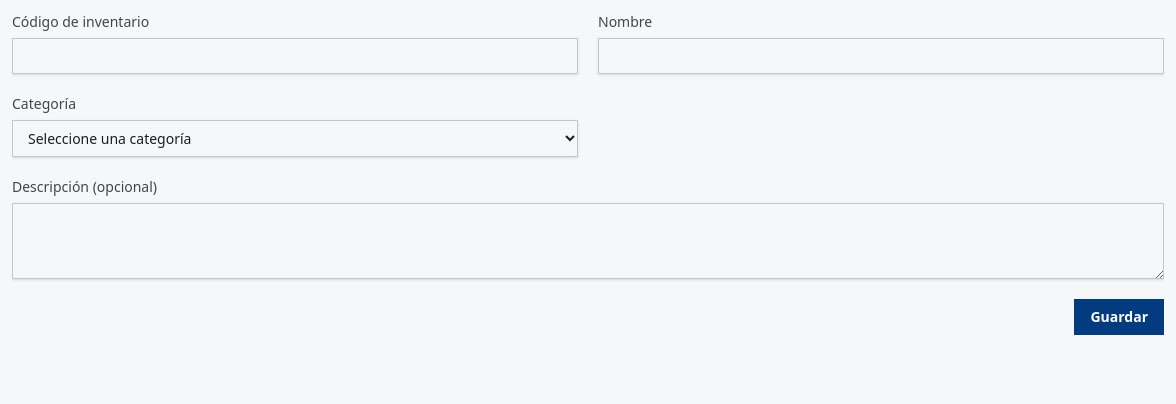
it: ItemForm › muestra errores de validación al crear con campos vacíos
This screenshot has width=1176, height=404.
Click the button "Guardar": [1119, 317] box [1074, 299, 1164, 335]
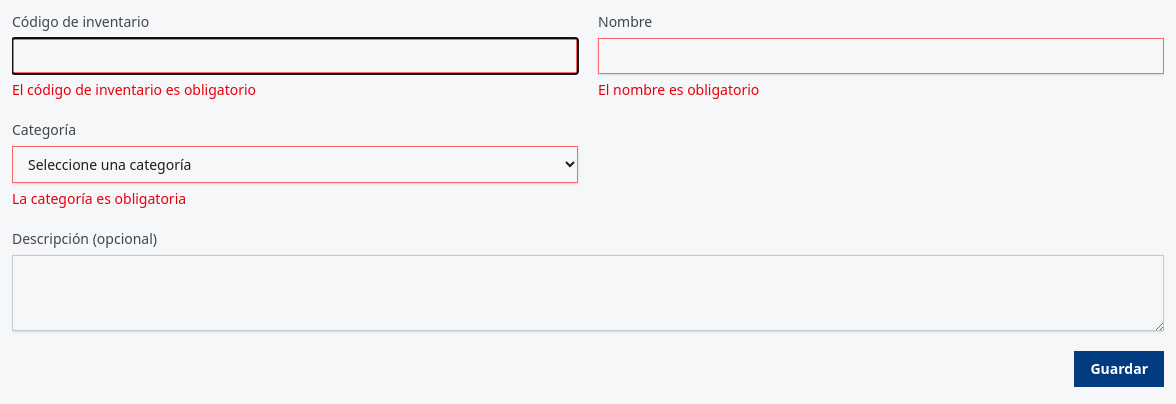
Check: the text "El código de inventario es obligatorio" is shown, box [12, 80, 256, 99]
Check: the text "El nombre es obligatorio" is shown, box [598, 80, 759, 99]
Check: the text "La categoría es obligatoria" is shown, box [12, 189, 186, 208]
